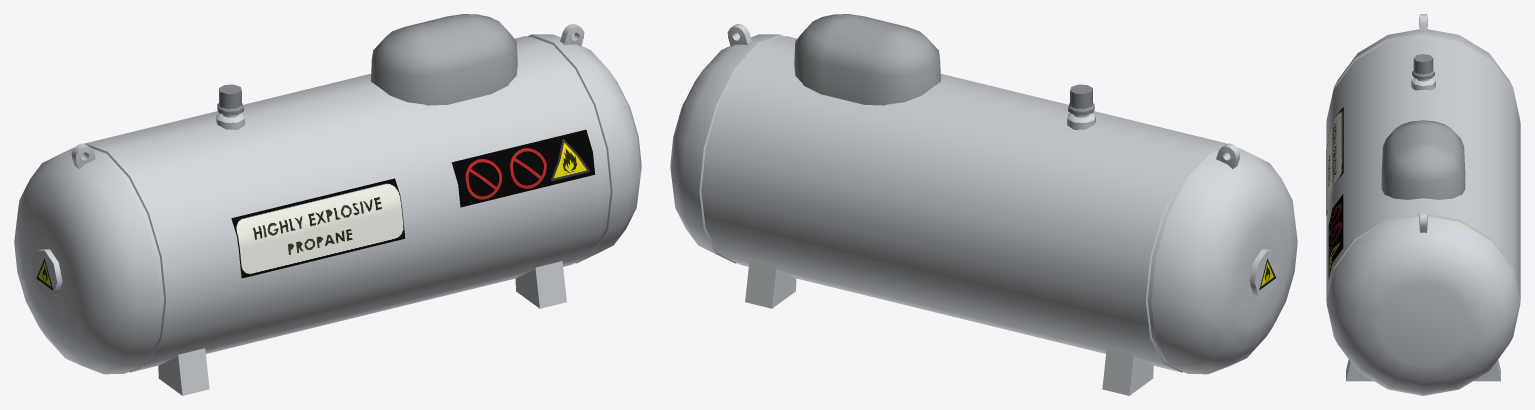
Rendered from SM_Prop_PropaneTank_03_main.obj.
3 renders of one model, left to right at view 1: azimuth 30°, elevation 25°; view 2: azimuth 150°, elevation 25°; view 3: azimuth 270°, elevation 25°, orthographic. The views are drawn at different scales.
Parts seen in each view (by area): view 1: SM_Prop_PropaneTank_03_main_Mat_SwatchOverlay_PolygonTown_01_Ins, SM_Prop_PropaneTank_03_main_M_StickerAtlas_Inst; view 2: SM_Prop_PropaneTank_03_main_Mat_SwatchOverlay_PolygonTown_01_Ins; view 3: SM_Prop_PropaneTank_03_main_Mat_SwatchOverlay_PolygonTown_01_Ins, SM_Prop_PropaneTank_03_main_M_StickerAtlas_Inst.
Part boxes in pixels (x1,y1,x2,y2): SM_Prop_PropaneTank_03_main_Mat_SwatchOverlay_PolygonTown_01_Ins: (14,14,641,395); SM_Prop_PropaneTank_03_main_M_StickerAtlas_Inst: (36,129,595,290); SM_Prop_PropaneTank_03_main_Mat_SwatchOverlay_PolygonTown_01_Ins: (670,14,1297,395); SM_Prop_PropaneTank_03_main_Mat_SwatchOverlay_PolygonTown_01_Ins: (1326,14,1520,395); SM_Prop_PropaneTank_03_main_M_StickerAtlas_Inst: (1326,107,1343,278).
Bounding box in the file's own units: 3.23 × 1.44 × 1.17.
Materials: 2 (2 with a texture image).
